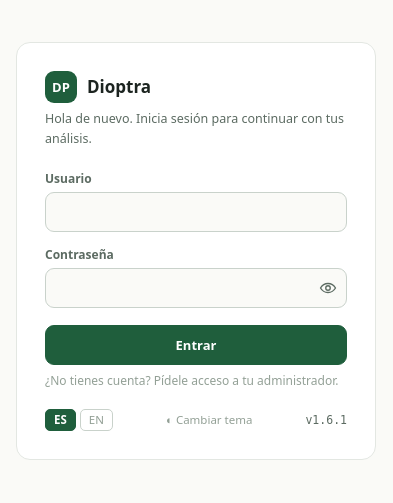
Test case: login screen › shows the translated message for wrong credentials and clears the password
Type "mmarin" into the field labelled "Usuario".
click(196, 212); type("mmarin")  # box [45, 192, 347, 232]
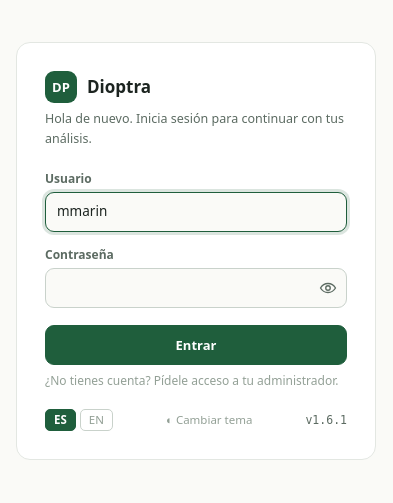
Type "wrong-password" into the password field labelled "Contraseña".
click(196, 288); type("wrong-password")  # box [45, 268, 347, 308]
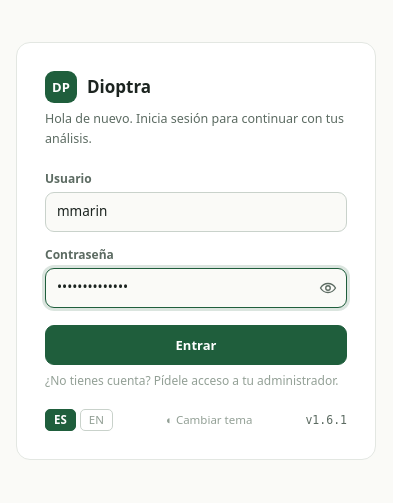
Click the button "Entrar".
click(196, 345)  # box [45, 325, 347, 365]
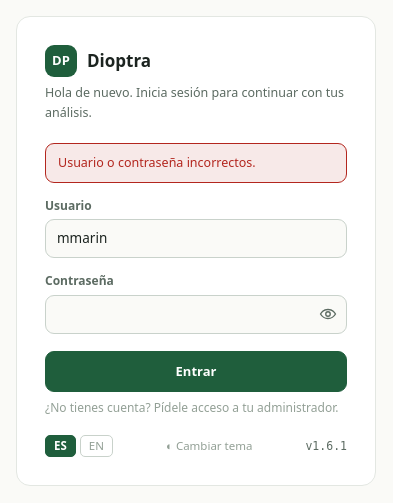
expect the message reads "Usuario o contraseña incorrectos.": met, box [58, 154, 256, 170]
expect the password field labelled "Contraseña" is empty: met, box [45, 294, 347, 334]
